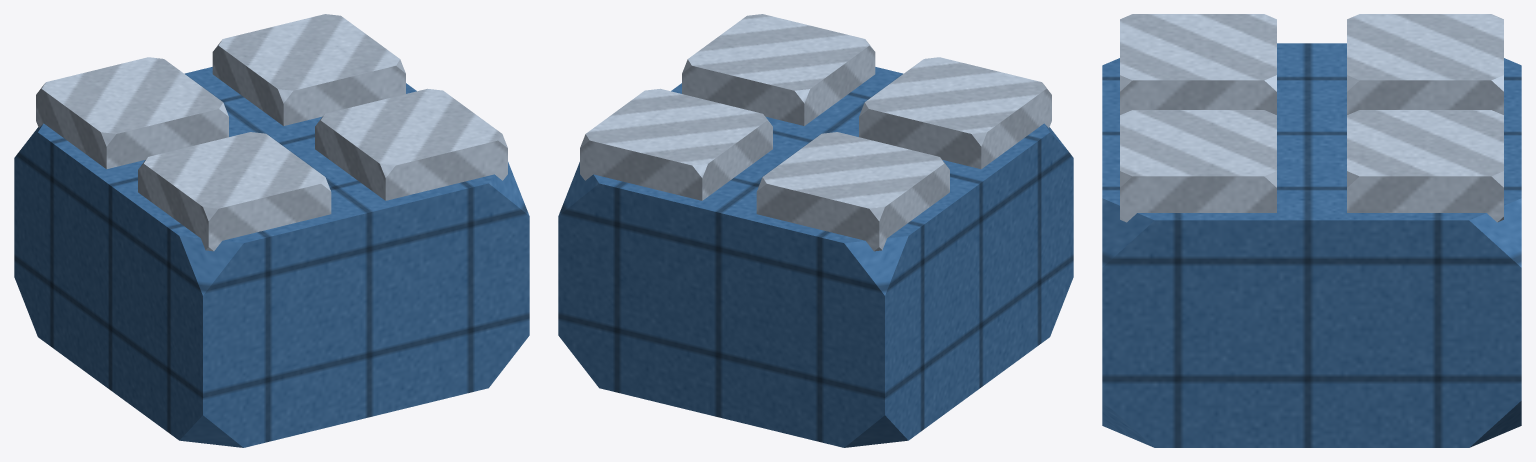
File: eq_armor_plate.glb
The picture shows the model from 3 angles, left to right: view 1: azimuth 30°, elevation 25°; view 2: azimuth 150°, elevation 25°; view 3: azimuth 270°, elevation 25°; orthographic projection. The views are drawn at different scales.
Visible parts, largest first — view 1: eq_armor_plate; view 2: eq_armor_plate; view 3: eq_armor_plate.
Boxes of the visible parts, x1,y1,x2,y2 form: eq_armor_plate: (14,14,529,447); eq_armor_plate: (558,14,1073,447); eq_armor_plate: (1102,14,1521,447).
Bounding box in the file's own units: 1.92 × 1.34 × 1.92.
Materials: 1 (1 with a texture image).
